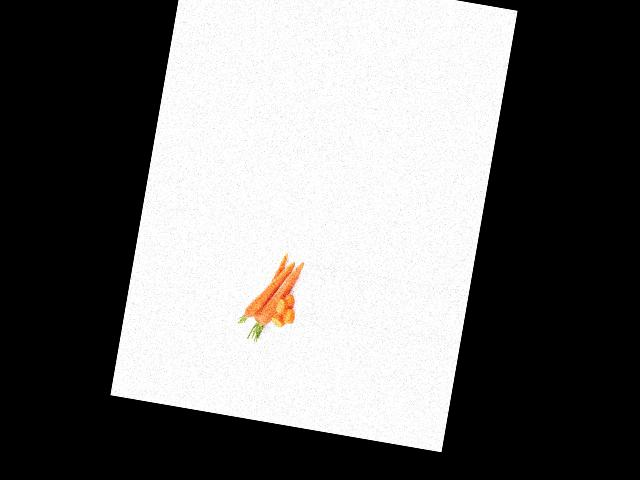carrot: (254, 256, 304, 337)
